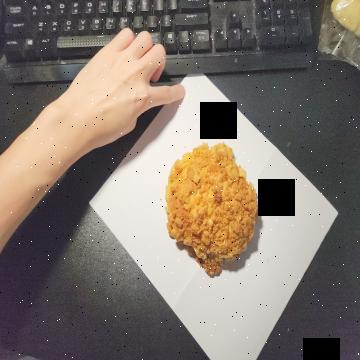soboru_bread: (165, 142, 260, 270)
